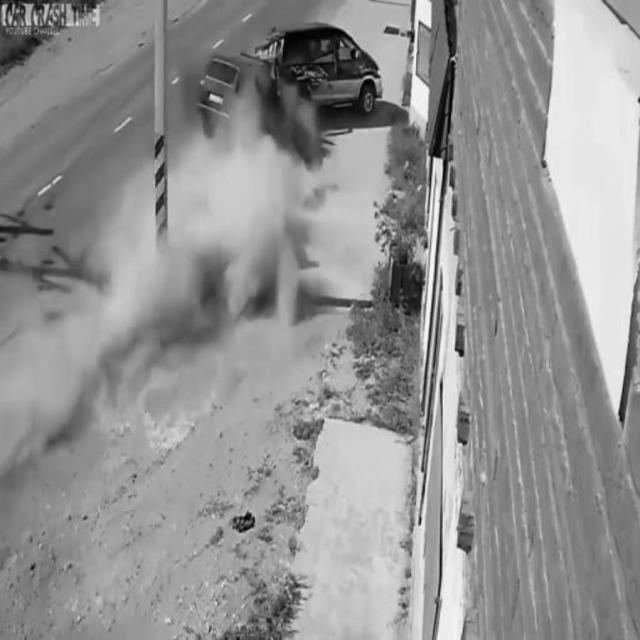accident: (200, 26, 384, 136)
